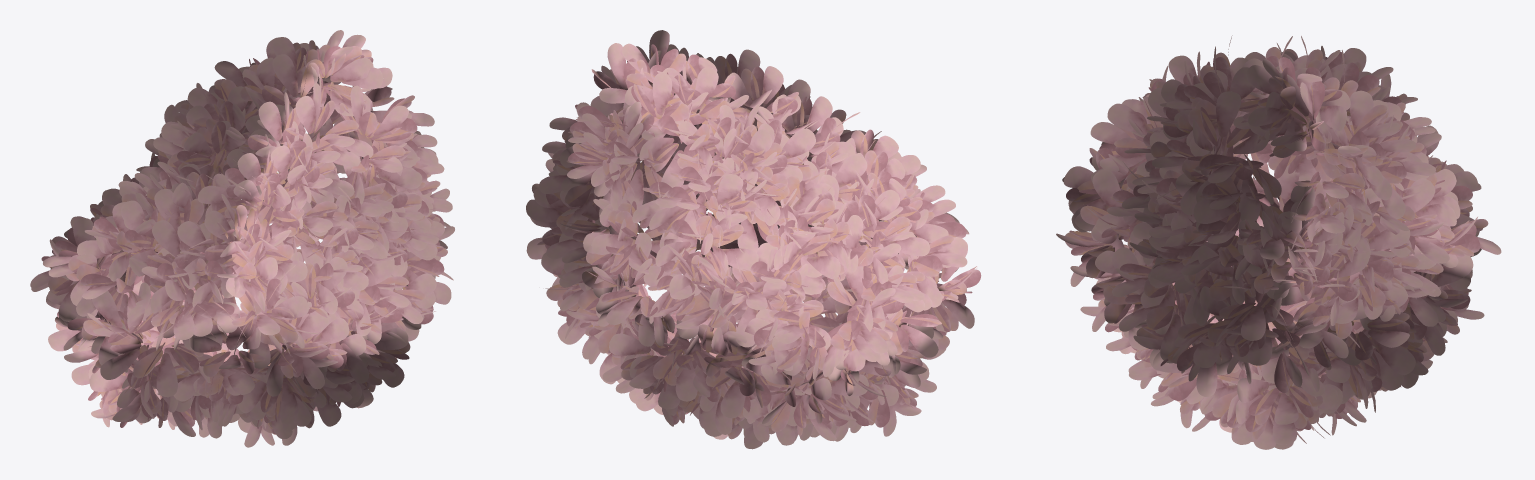
Rendered from Mesh_Foliage4_feuille.fbx.
3 renders of one model, left to right at view 1: azimuth 30°, elevation 25°; view 2: azimuth 150°, elevation 25°; view 3: azimuth 270°, elevation 25°, orthographic. The views are drawn at different scales.
Visible parts, largest first — view 1: Plane054; view 2: Plane054; view 3: Plane054.
Part boxes in pixels (x1,y1,x2,y2): Plane054: (30, 30, 454, 447); Plane054: (526, 30, 981, 449); Plane054: (1056, 35, 1501, 449).
Size of the model in its own units: 372 by 343 by 339.
